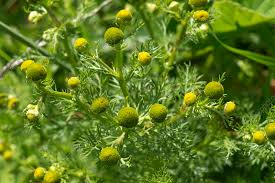pineple: (113, 59, 228, 159)
